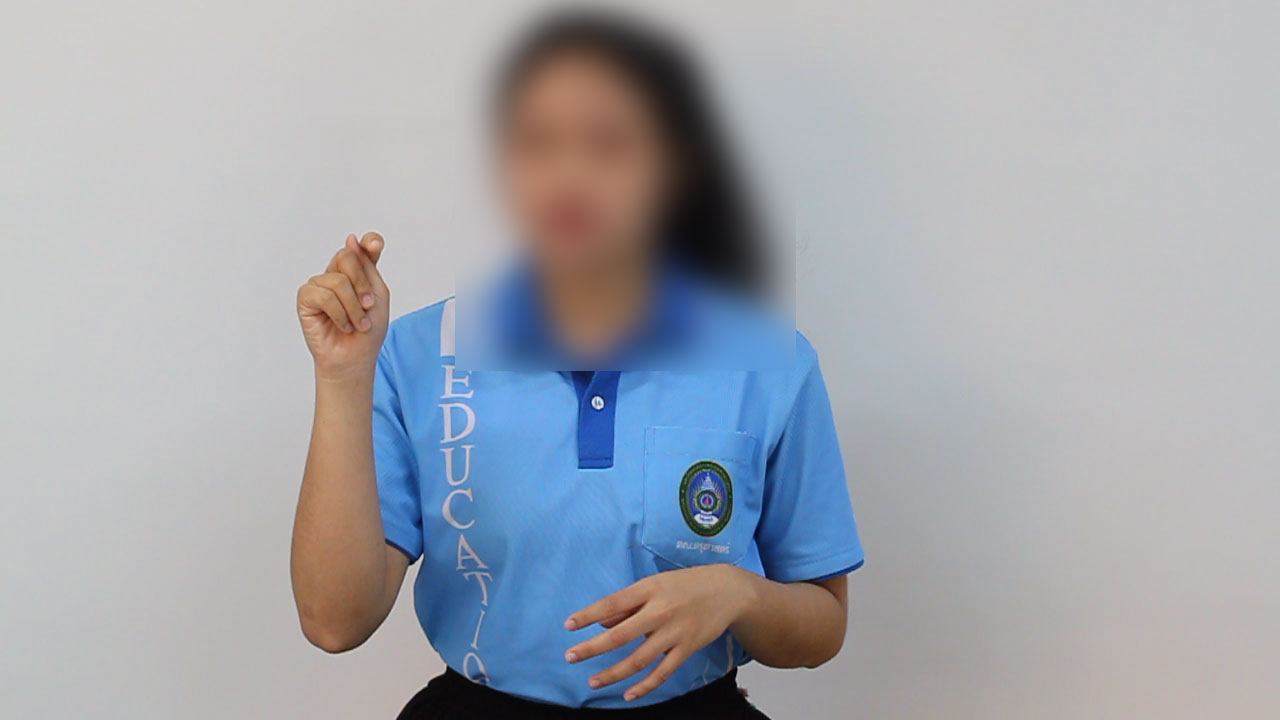tor: (273, 225, 416, 383)
